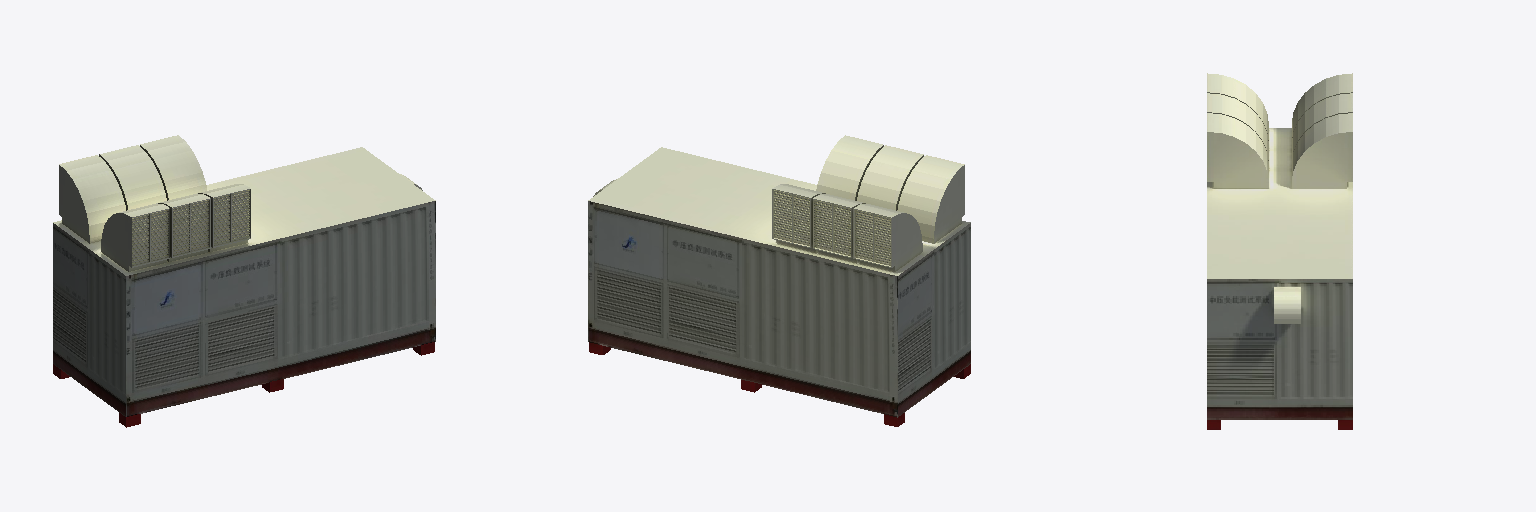
3 renders of one model, left to right at view 1: azimuth 30°, elevation 25°; view 2: azimuth 150°, elevation 25°; view 3: azimuth 270°, elevation 25°, orthographic.
Parts seen in each view (by area): view 1: Box06; view 2: Box06; view 3: Box06.
Part boxes in pixels (left/top/right/bottom): Box06: left=53, top=135, right=435, bottom=427; Box06: left=588, top=135, right=970, bottom=426; Box06: left=1207, top=73, right=1352, bottom=429.
Bounding box in the file's own units: 66.57 × 39.84 × 25.45.
Materials: 1 (1 with a texture image).